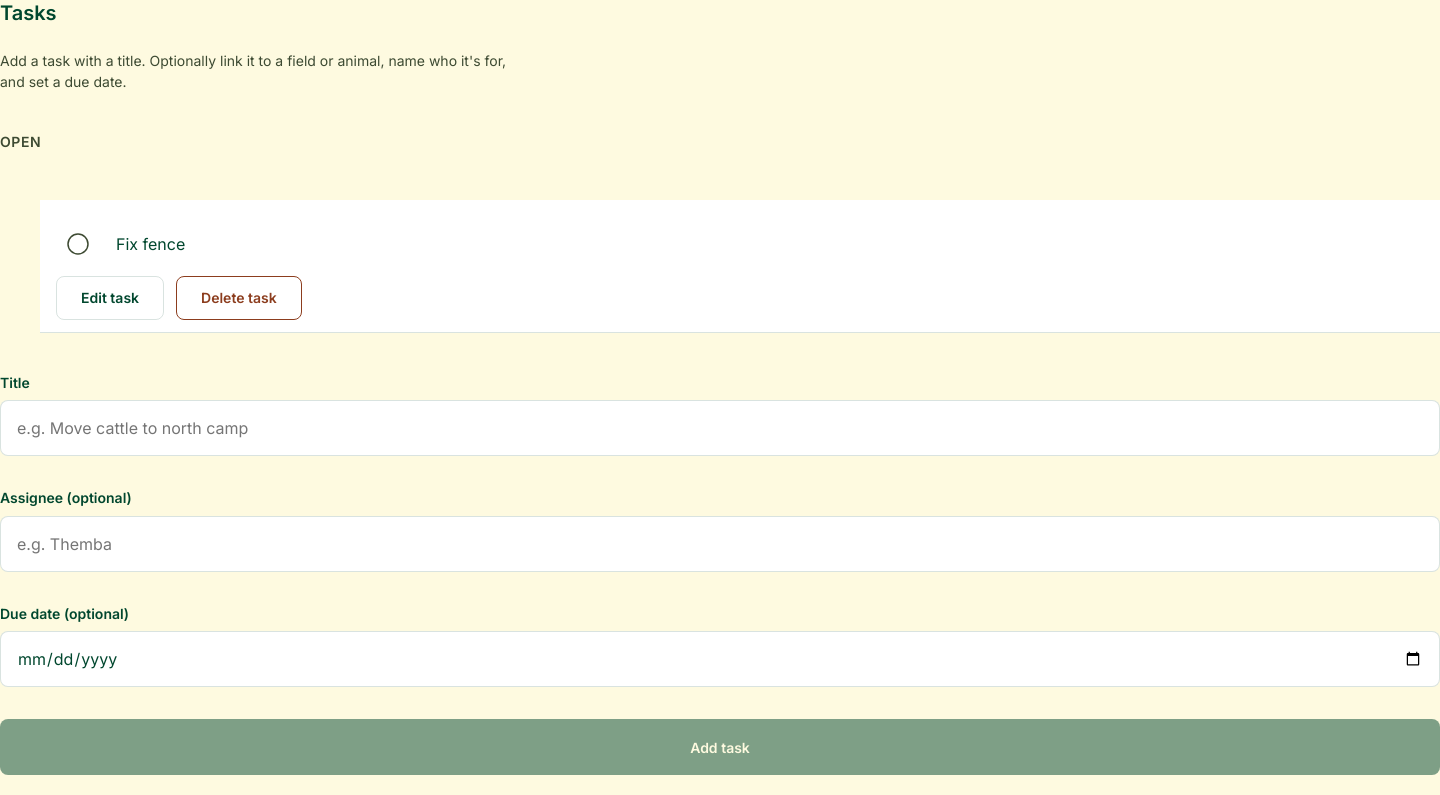
Test: TasksScreen › edits a task title inline and persists it (E4-03)
Click the button "Edit task" at (110, 298), box [56,276,164,320]
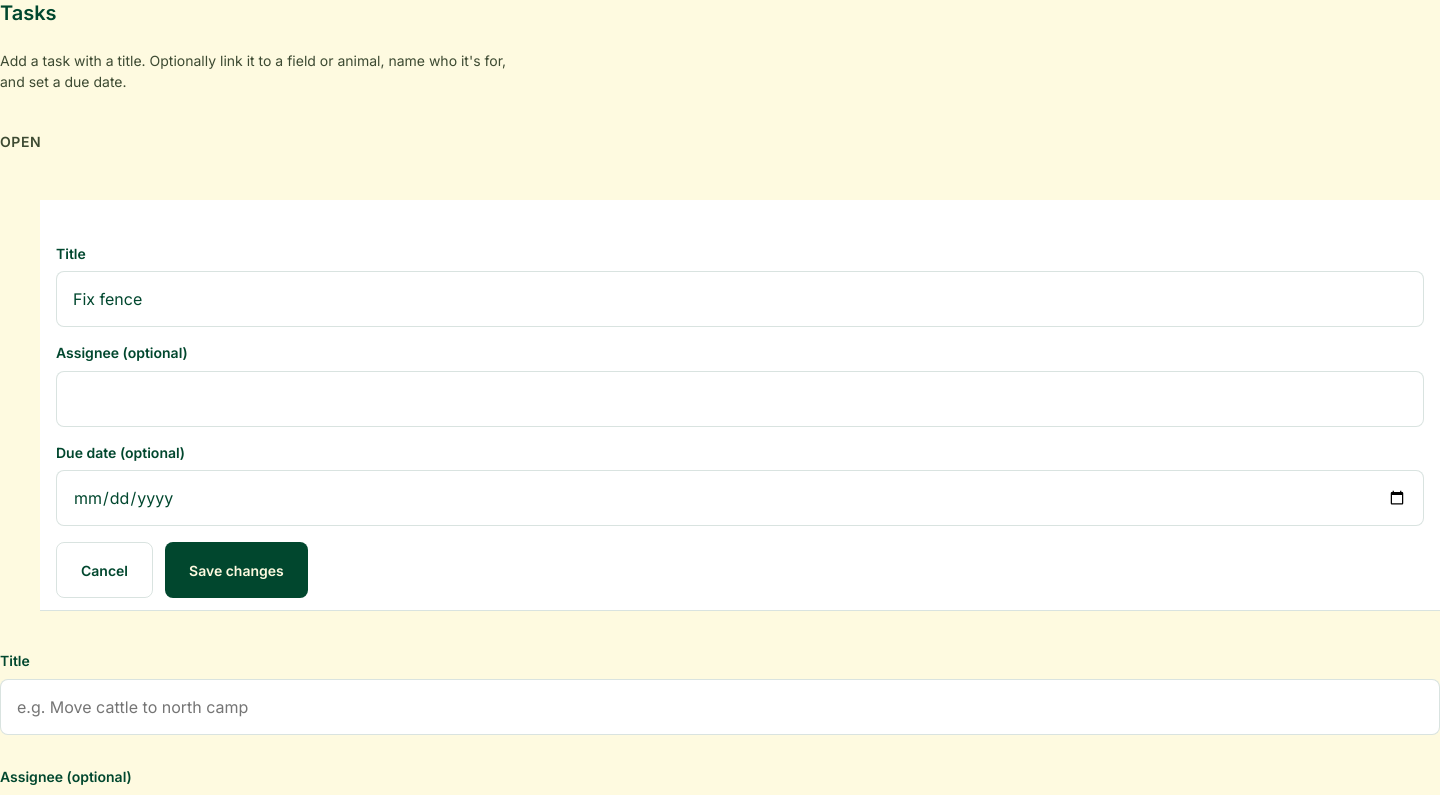
Replace the text in the field with test id "task-edit-title-input" with "Fix the north fence" at (740, 299), box [56,271,1424,327]
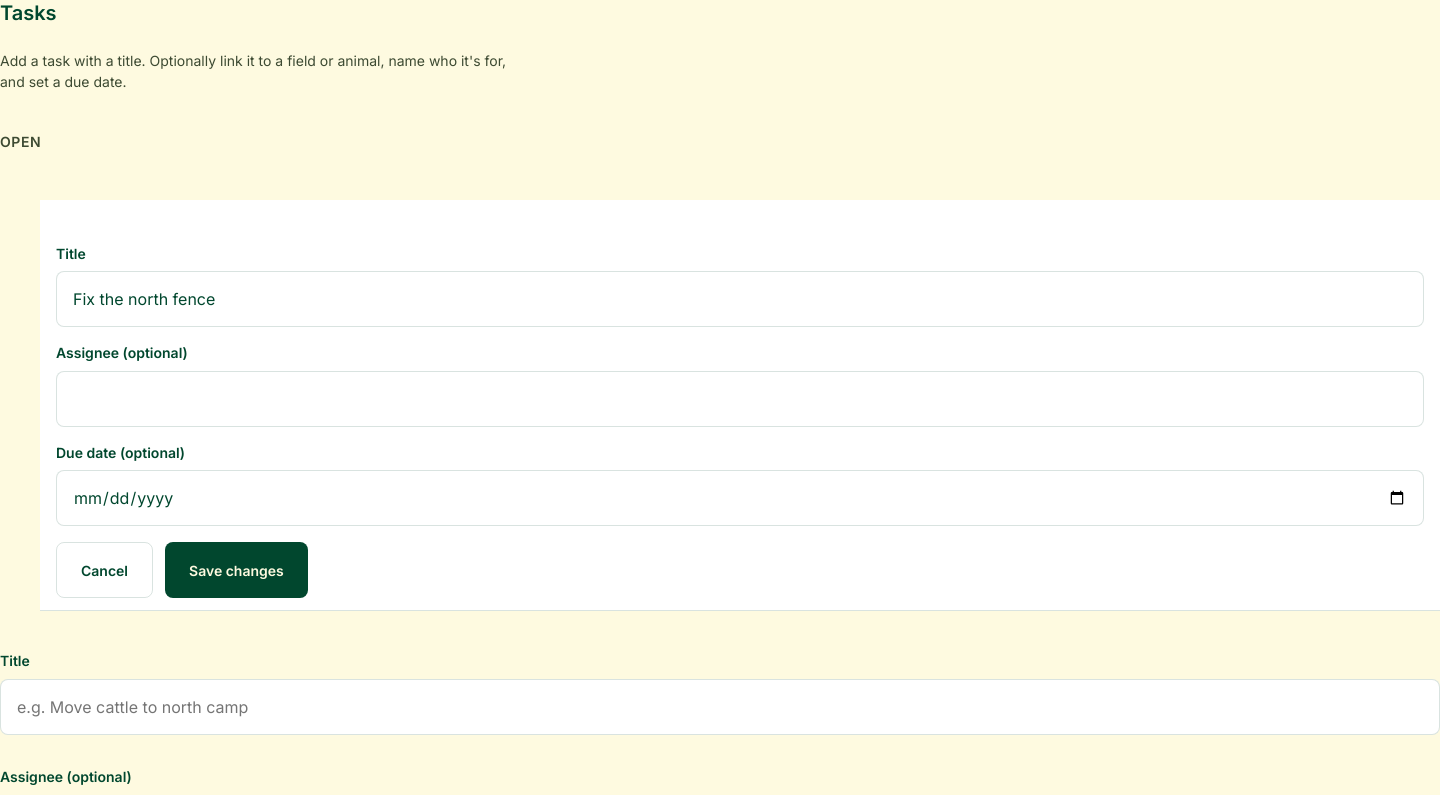
Click the button "Save changes" at (236, 570), box [165,542,308,598]
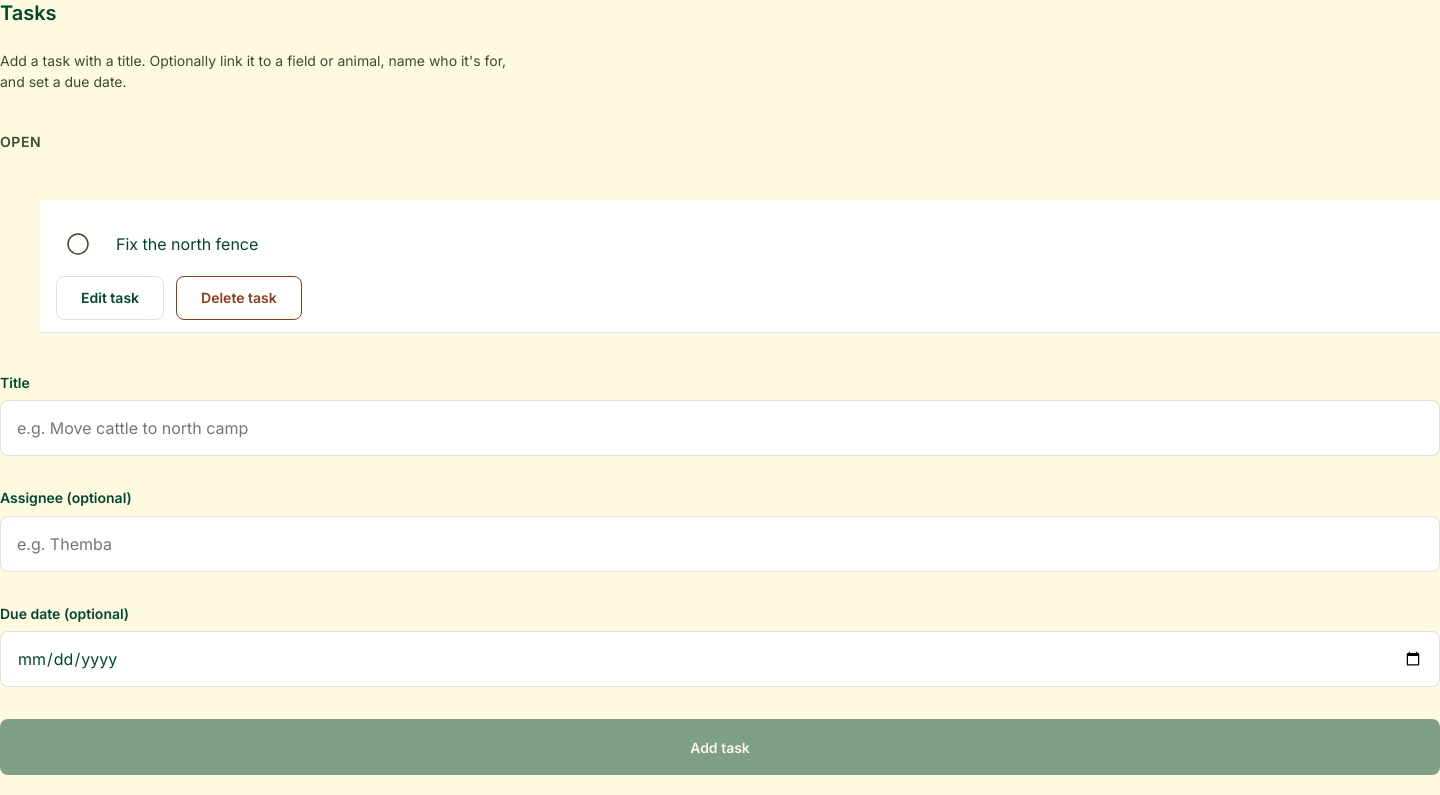
Check: the text "Fix the north fence" is shown, box [116,234,258,254]
Check: the field with test id "task-edit-title-input" is gone
Check: the list named "Open tasks" shows "Fix the north fence", box [116,234,258,254]
